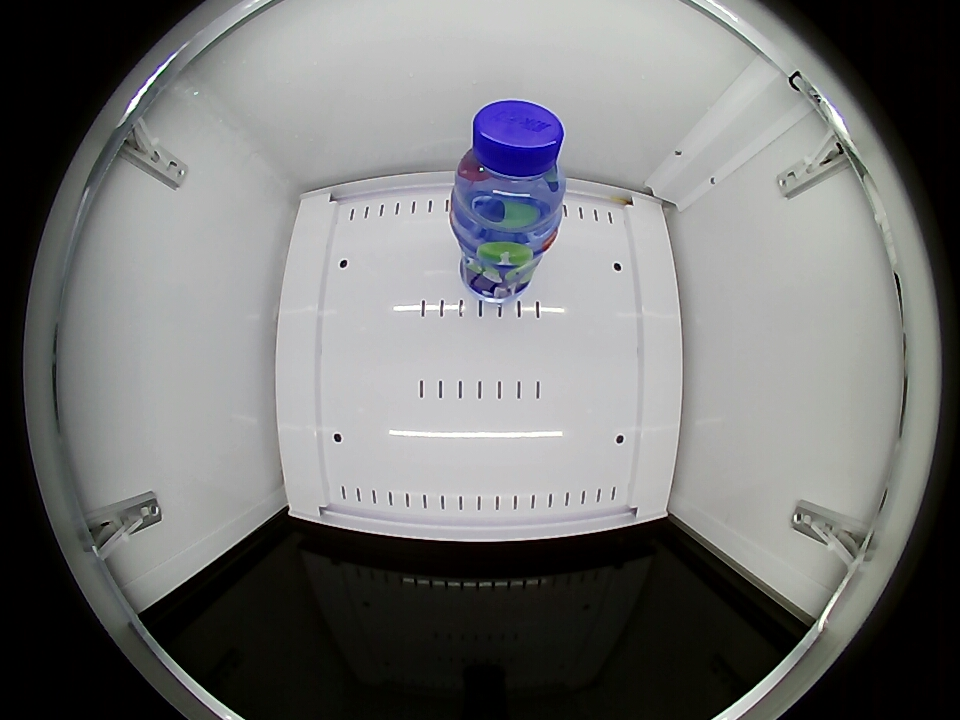maidong: (453, 99, 567, 239)
